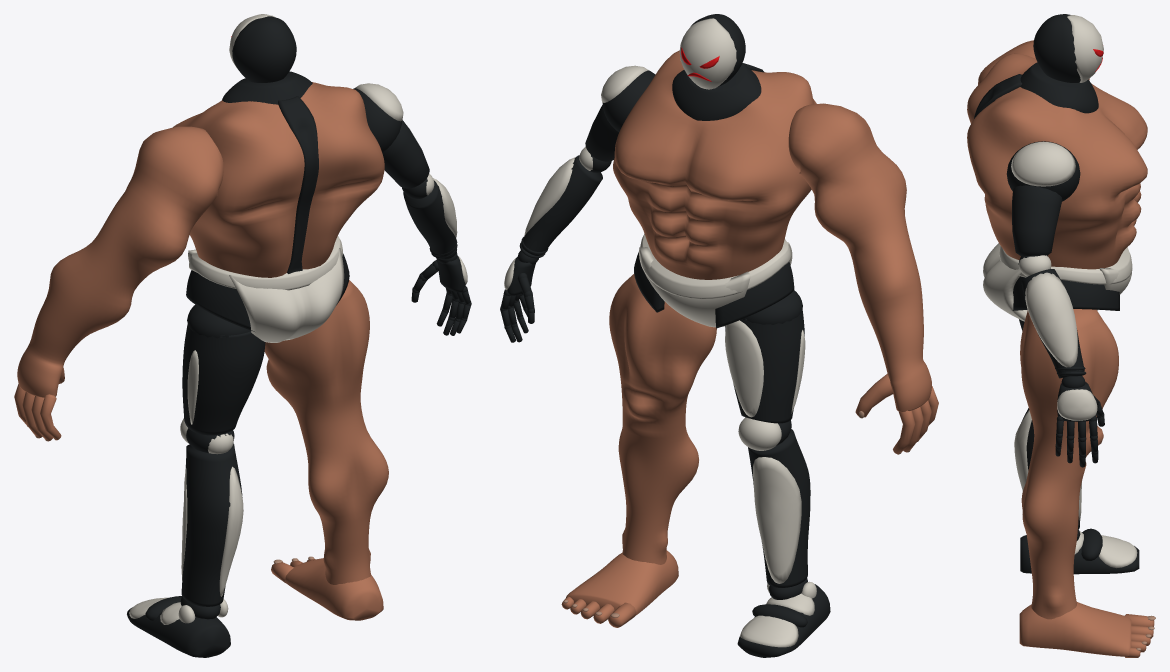
The picture shows the model from 3 angles, left to right: view 1: azimuth 30°, elevation 25°; view 2: azimuth 150°, elevation 25°; view 3: azimuth 270°, elevation 25°; orthographic projection. The views are drawn at different scales.
Size of the model in its own units: 1.95 by 2.6 by 0.7579.
